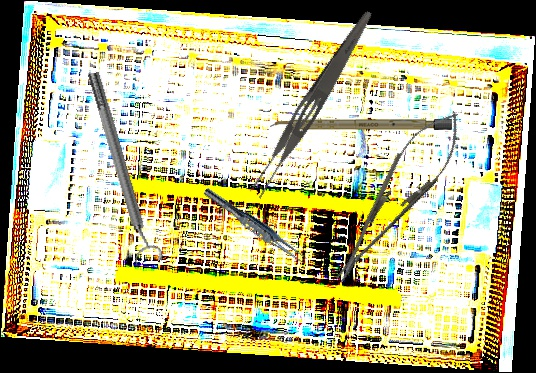Dressing Forceps: (245, 4, 377, 202)
Fixation Ring: (79, 68, 165, 268)
Needle Holder: (318, 98, 476, 294)
Scalpel Handle: (270, 119, 452, 130)
Tissue Forceps: (200, 184, 311, 268)
